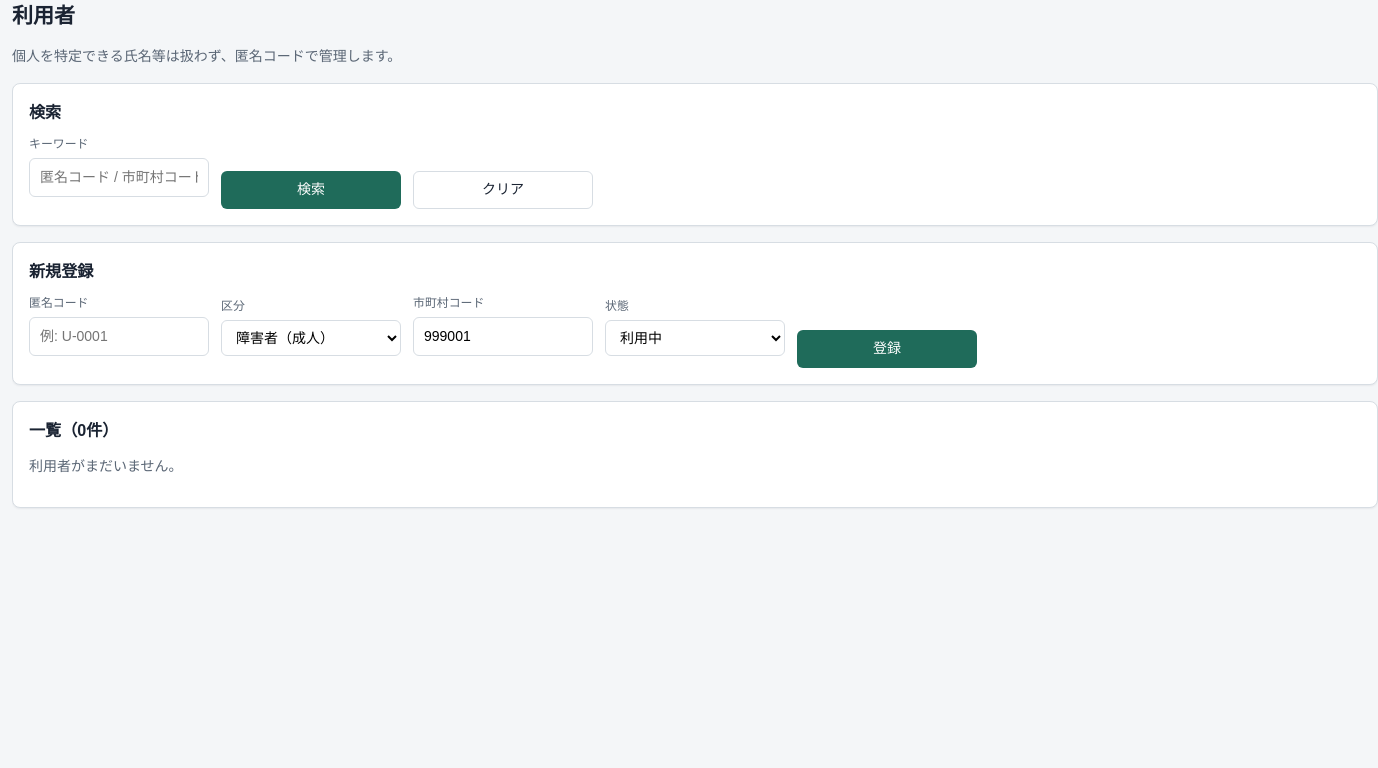
BeneficiariesPage › posts new beneficiary and reloads
Expected: the text "利用者がまだいません。" is shown, [29, 458, 183, 474]
Type "U-0002" into the field labelled "匿名コード". click: (119, 336)
box: [29, 316, 209, 356]
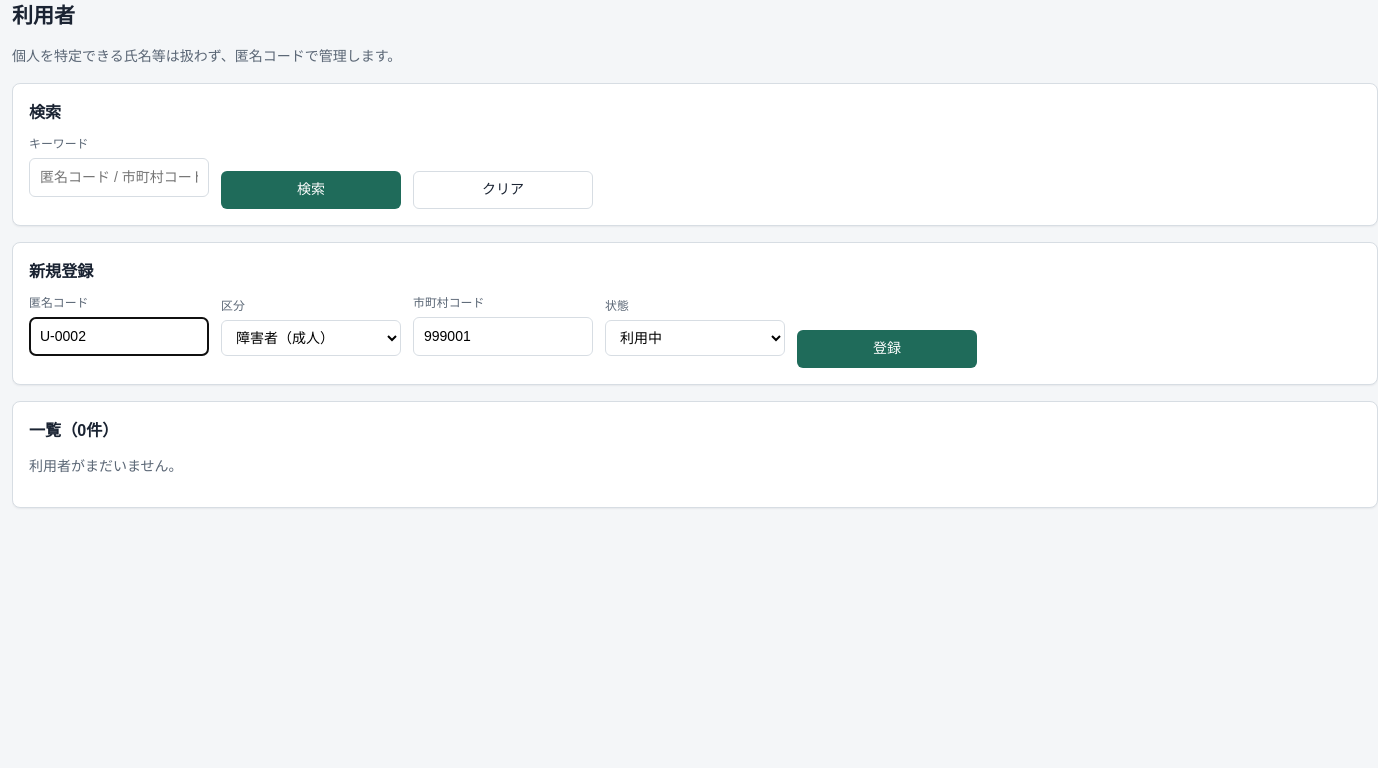
Replace the text in the field labelled "市町村コード" with "999002". click: (503, 336)
box: [413, 316, 593, 356]
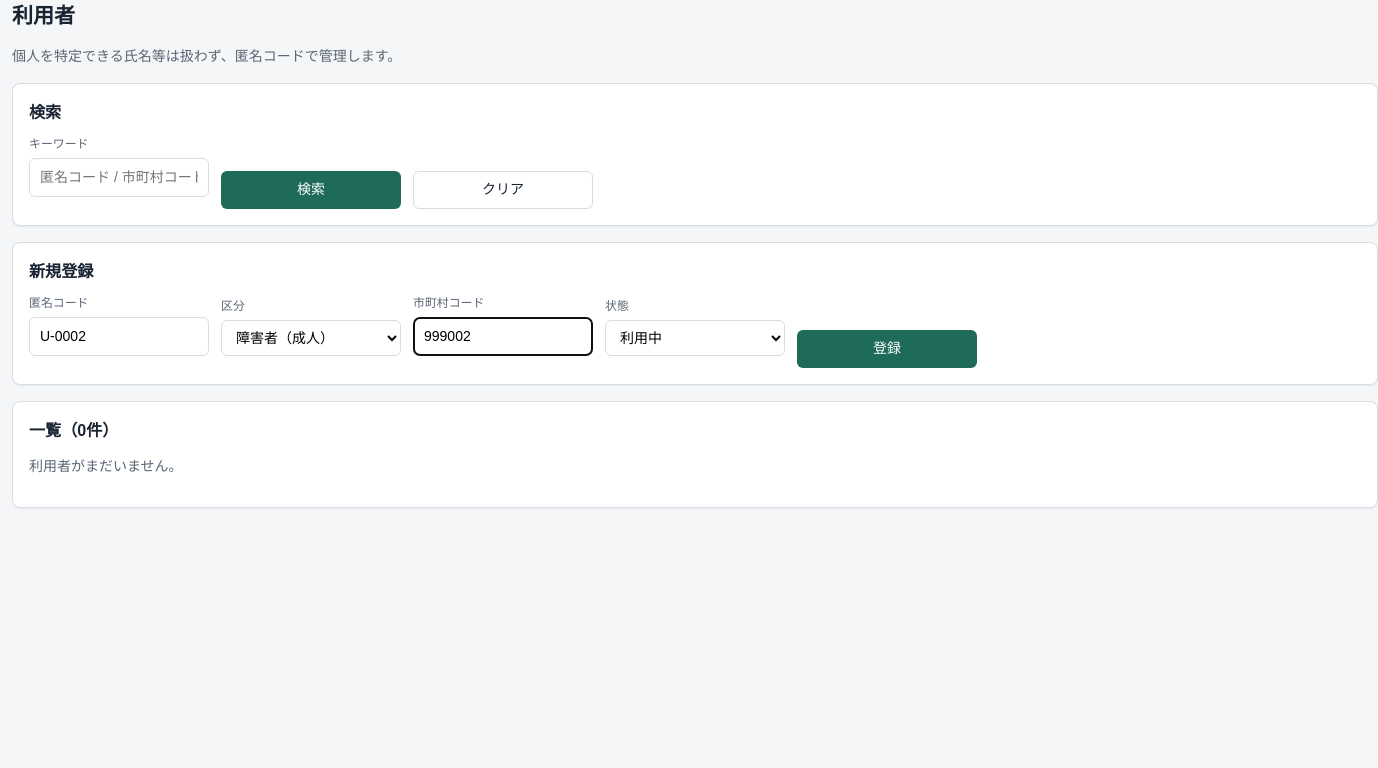
Select "障害児" in the dropdown labelled "区分". click: (311, 338)
box: [221, 320, 401, 356]
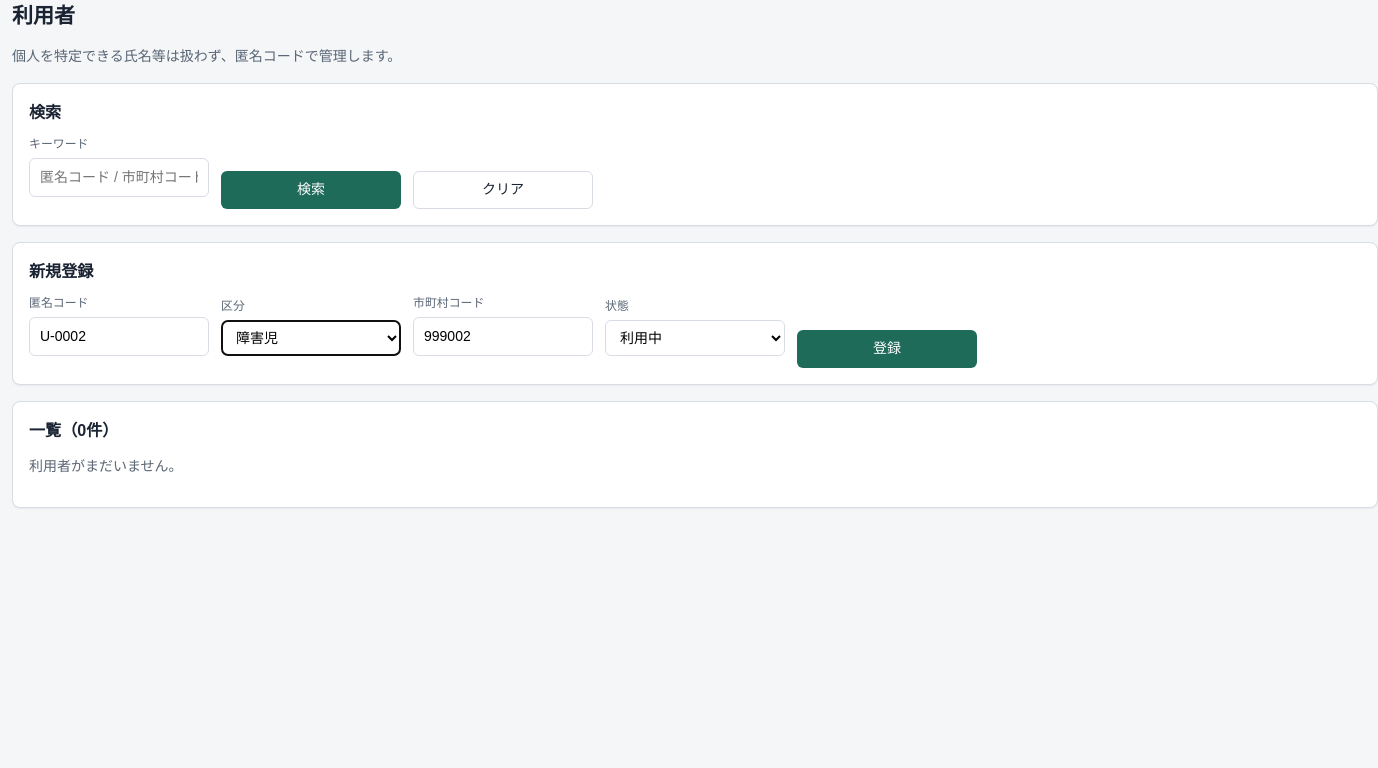
Click the button "登録". click: (887, 348)
box: [797, 330, 977, 368]
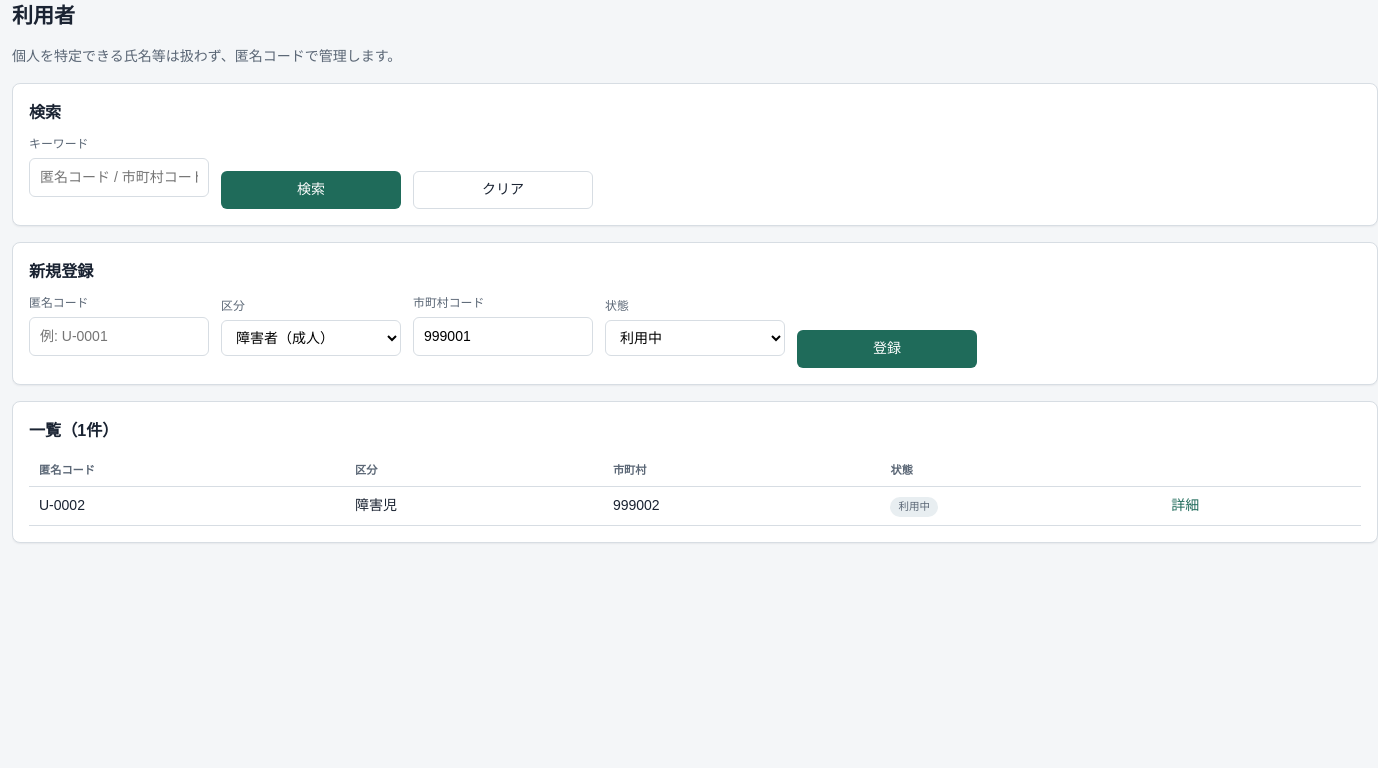
Now the text "U-0002" is shown, box [29, 487, 345, 526]
